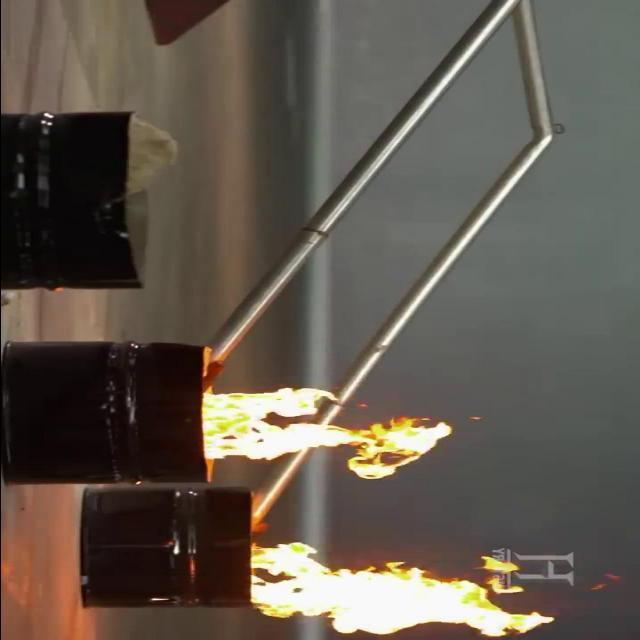Fire: (218, 516, 556, 632), (202, 368, 464, 476)
